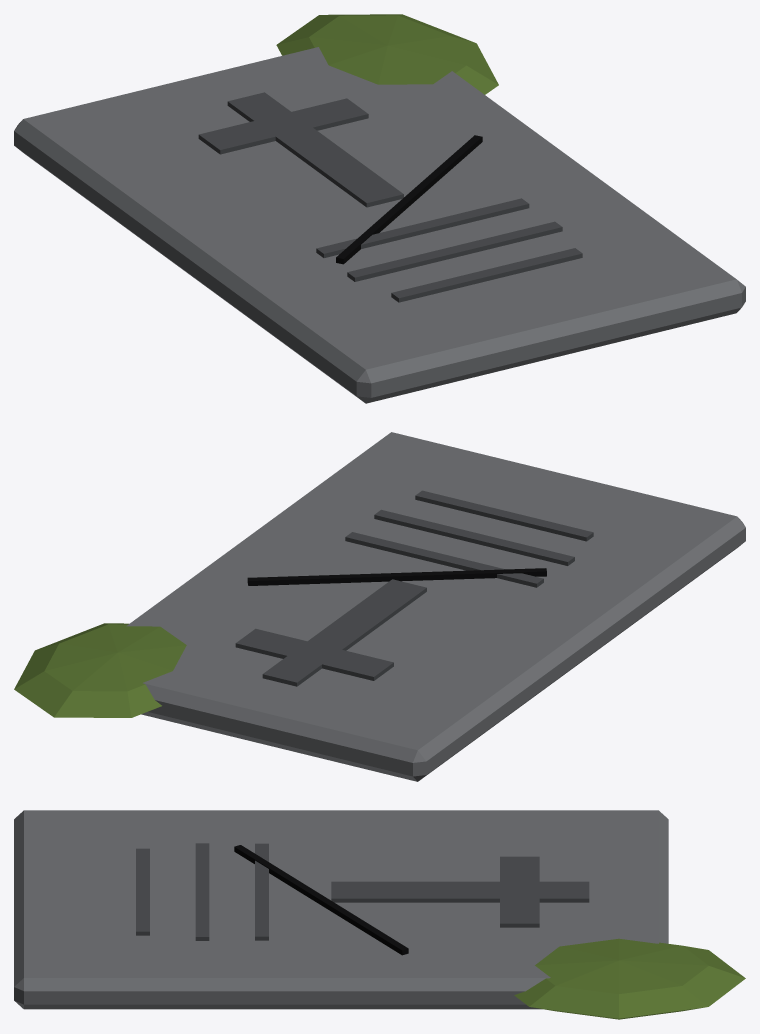
File: grave_slab.glb
3 views of the same model, one above another, from view 1: azimuth 30°, elevation 25°; view 2: azimuth 150°, elevation 25°; view 3: azimuth 270°, elevation 25° (orthographic). The views are drawn at different scales.
Visible parts, largest first — view 1: GraveSlab; view 2: GraveSlab; view 3: GraveSlab.
Boxes of the visible parts, x1,y1,x2,y2 form: GraveSlab: (14,14,745,403); GraveSlab: (14,432,745,781); GraveSlab: (14,810,745,1019).
Size of the model in its own units: 0.476 by 0.0405 by 0.738.
